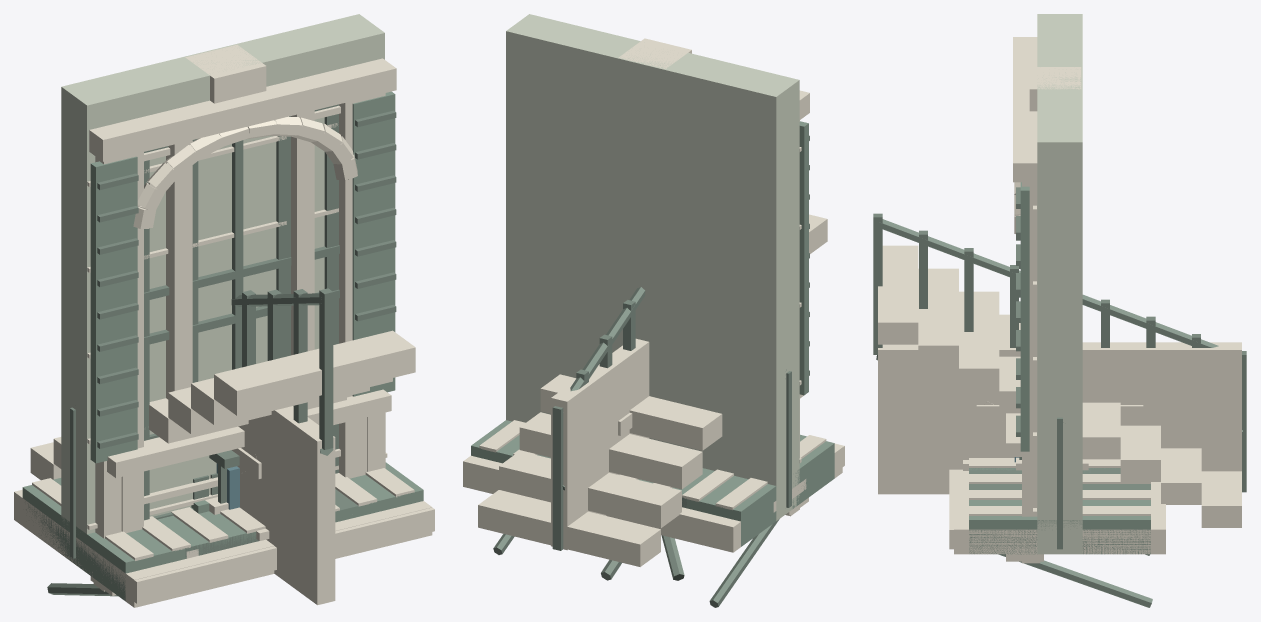
Rendered from kit.glb.
The picture shows the model from 3 angles, left to right: view 1: azimuth 30°, elevation 25°; view 2: azimuth 150°, elevation 25°; view 3: azimuth 270°, elevation 25°; orthographic projection. The views are drawn at different scales.
Parts seen in each view (by area): view 1: wall.015, closed stair cheek, wall jamb.046, shutter.002, tread.017, shutter.003, canopy.005, lintel.023, wall above.023, fascia.005, stone surround.038, lintel.017 (+60 smaller); view 2: wall jamb.046, wall jamb.039, wall.015, wall.010, wall jamb.047, wall jamb.038, wall above.023, wall.014, closed stair cheek, wall.009, wall jamb.035, tread.009 (+25 smaller); view 3: closed stair cheek, wall jamb.047, canopy.005, balcony slab.005, tread.017, tread.015, tread.016, stone surround.053, wall above.026, wall above.023, raking rail.002, shutter.003 (+25 smaller).
Boxes of the visible parts, bbox=[...] form: wall.015: bbox=[61, 18, 384, 533]; closed stair cheek: bbox=[238, 406, 335, 605]; wall jamb.046: bbox=[61, 76, 131, 533]; shutter.002: bbox=[90, 156, 137, 463]; tread.017: bbox=[214, 330, 415, 415]; shutter.003: bbox=[352, 91, 395, 396]; canopy.005: bbox=[22, 462, 423, 601]; lintel.023: bbox=[108, 63, 377, 156]; wall above.023: bbox=[106, 25, 340, 119]; fascia.005: bbox=[134, 507, 434, 603]; stone surround.038: bbox=[166, 140, 192, 399]; lintel.017: bbox=[112, 66, 374, 155]; wall jamb.046: bbox=[735, 74, 799, 520]; wall jamb.039: bbox=[506, 15, 593, 420]; wall.015: bbox=[506, 14, 796, 419]; wall.010: bbox=[607, 56, 674, 390]; wall jamb.047: bbox=[506, 14, 551, 422]; wall jamb.038: bbox=[688, 74, 792, 404]; wall above.023: bbox=[546, 24, 758, 136]; wall.014: bbox=[621, 60, 661, 386]; closed stair cheek: bbox=[551, 338, 649, 550]; wall.009: bbox=[573, 58, 708, 393]; wall jamb.035: bbox=[507, 15, 549, 422]; tread.009: bbox=[478, 490, 660, 566]; closed stair cheek: bbox=[878, 342, 1241, 494]; wall jamb.047: bbox=[1037, 123, 1082, 554]; canopy.005: bbox=[969, 468, 1150, 554]; balcony slab.005: bbox=[954, 469, 1165, 554]; tread.017: bbox=[878, 245, 918, 344]; tread.015: bbox=[959, 291, 999, 390]; tread.016: bbox=[918, 268, 958, 367]; stone surround.053: bbox=[1022, 182, 1040, 563]; wall above.026: bbox=[1037, 25, 1082, 130]; wall above.023: bbox=[1037, 37, 1082, 122]; raking rail.002: bbox=[877, 219, 1242, 360]; shutter.003: bbox=[1020, 182, 1029, 451].
Bounding box in the file's own units: 2.04 × 3.48 × 2.46.
